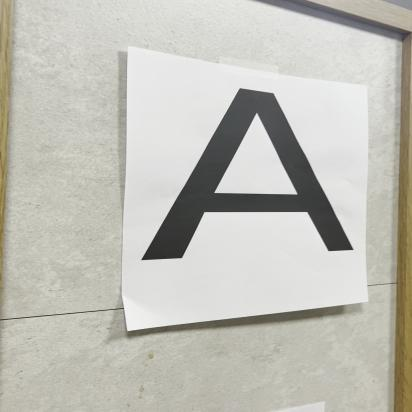seat: (124, 81, 356, 267)
